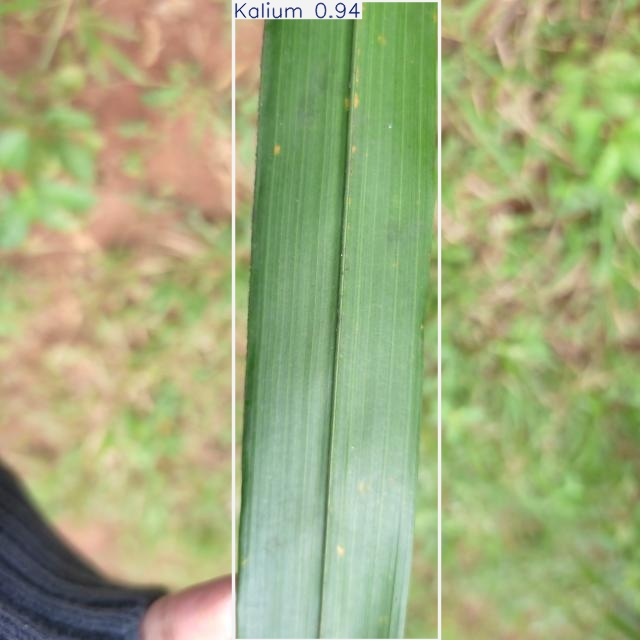Kalium: (233, 0, 440, 640)
